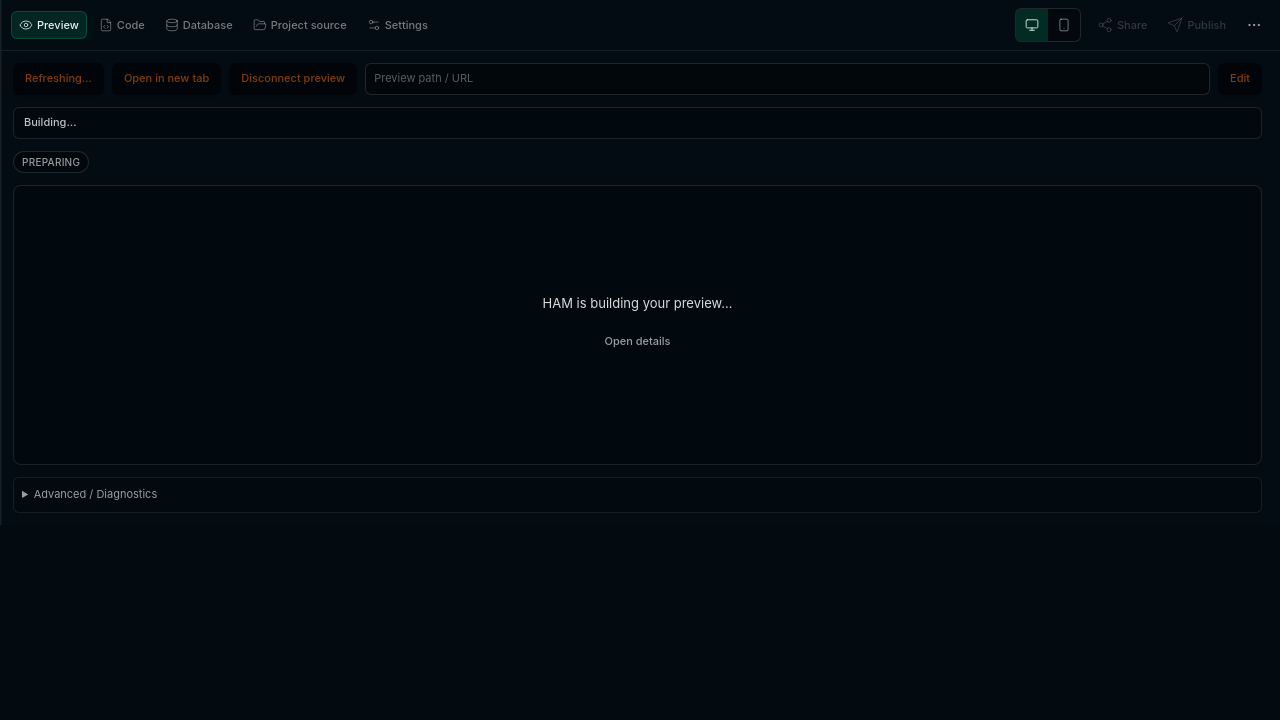
Test: WorkspaceWorkbench › Preview connect failure renders safe error copy
Click the heading "Advanced / Diagnostics".
click(95, 494)  # box 34,487 -> 157,501
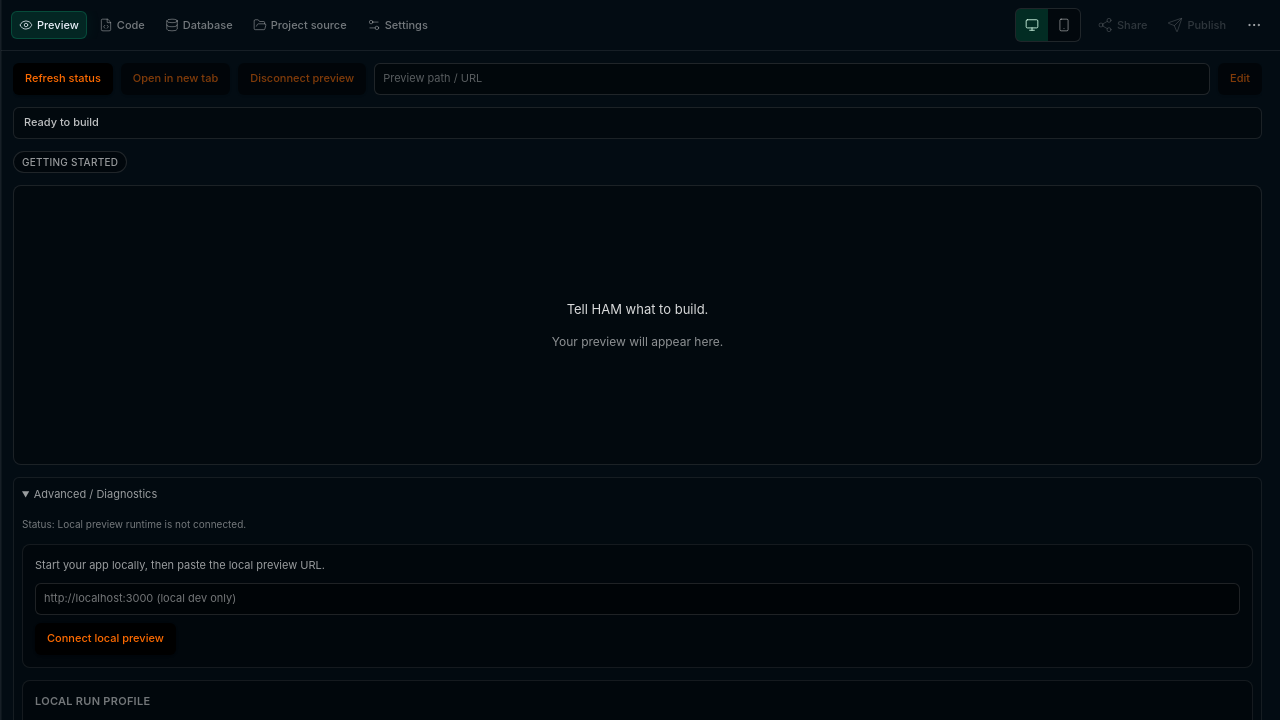
Check: the form with test id "hww-preview-connect-form" is shown, box 22,544 -> 1253,668
Type "https://example.com" into the field with test id "hww-preview-url-input".
click(638, 599); type("https://example.com")  # box 35,583 -> 1240,615
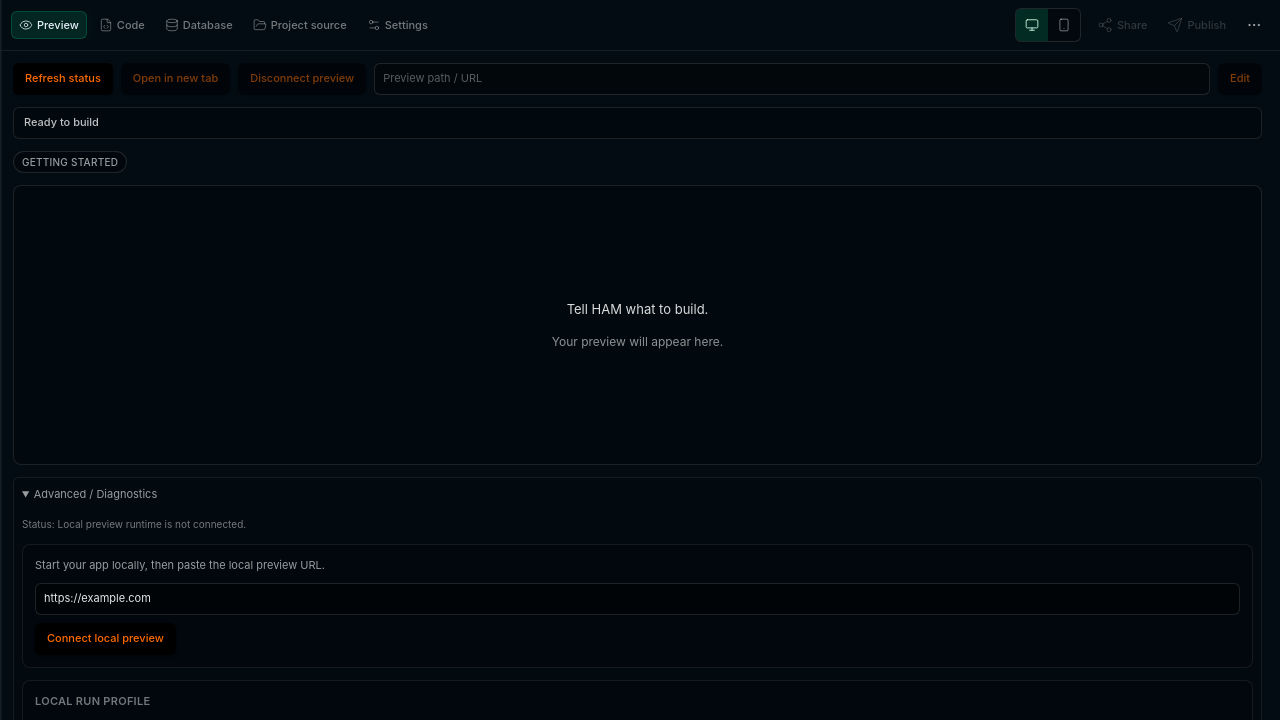
Click the button with test id "hww-preview-connect-submit".
click(105, 639)  # box 35,623 -> 176,655
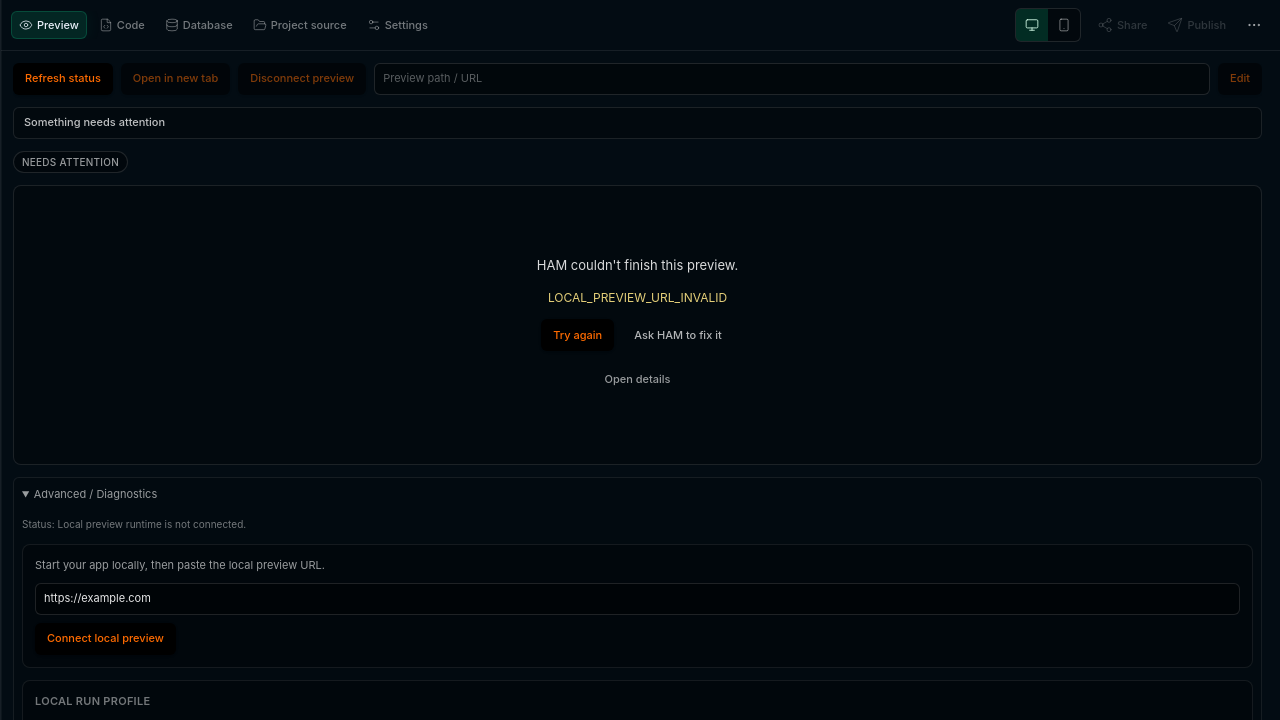
Check: the text "LOCAL_PREVIEW_URL_INVALID" is shown, box 548,288 -> 727,307
